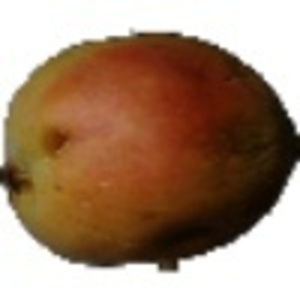mamão: (9, 23, 292, 259)
